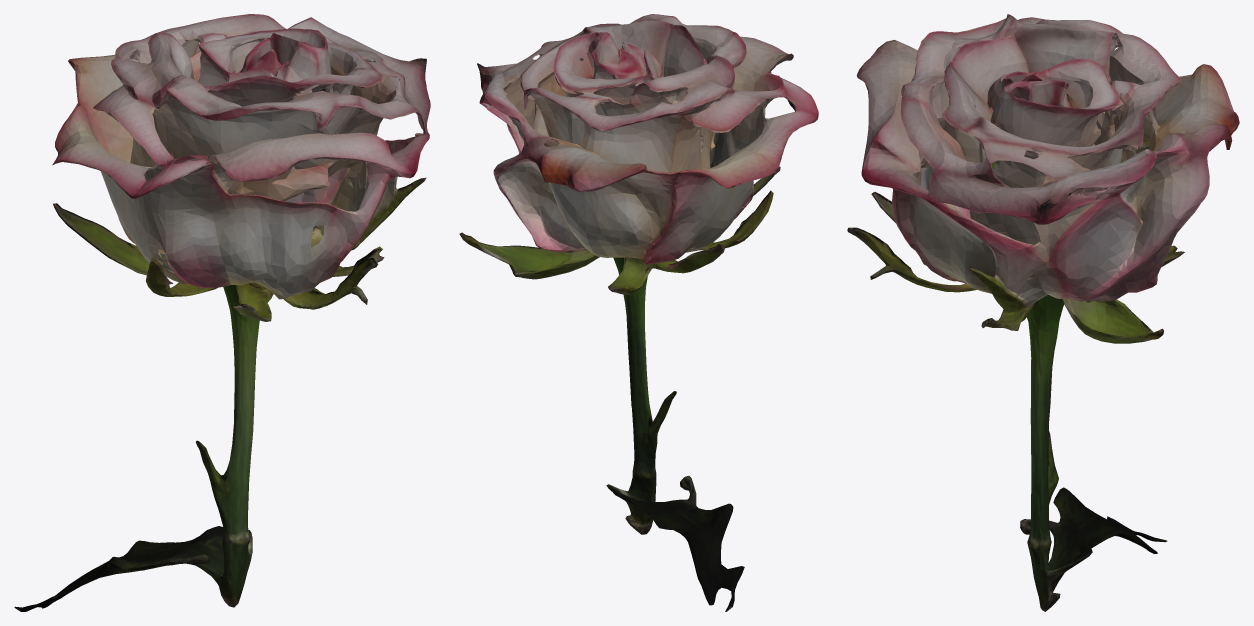
3 renders of one model, left to right at view 1: azimuth 30°, elevation 25°; view 2: azimuth 150°, elevation 25°; view 3: azimuth 270°, elevation 25°, orthographic. The views are drawn at different scales.
Parts seen in each view (by area): view 1: world; view 2: world; view 3: world.
Boxes of the visible parts, x1,y1,x2,y2 form: world: [14, 14, 430, 611]; world: [459, 14, 818, 611]; world: [847, 14, 1239, 611].
Bounding box in the file's own units: 0.653 × 0.9845 × 0.6137.
1 material, 1 textured.
